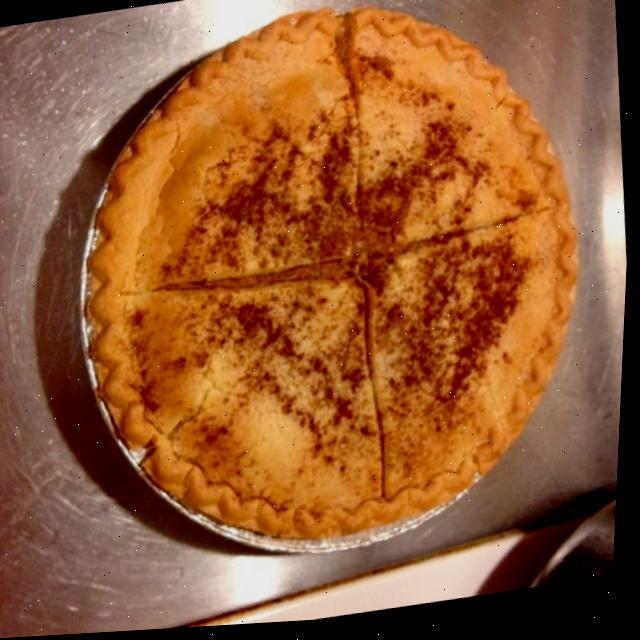炸货点心: (6, 0, 622, 611)
蛋糕甜品: (6, 0, 622, 611)
